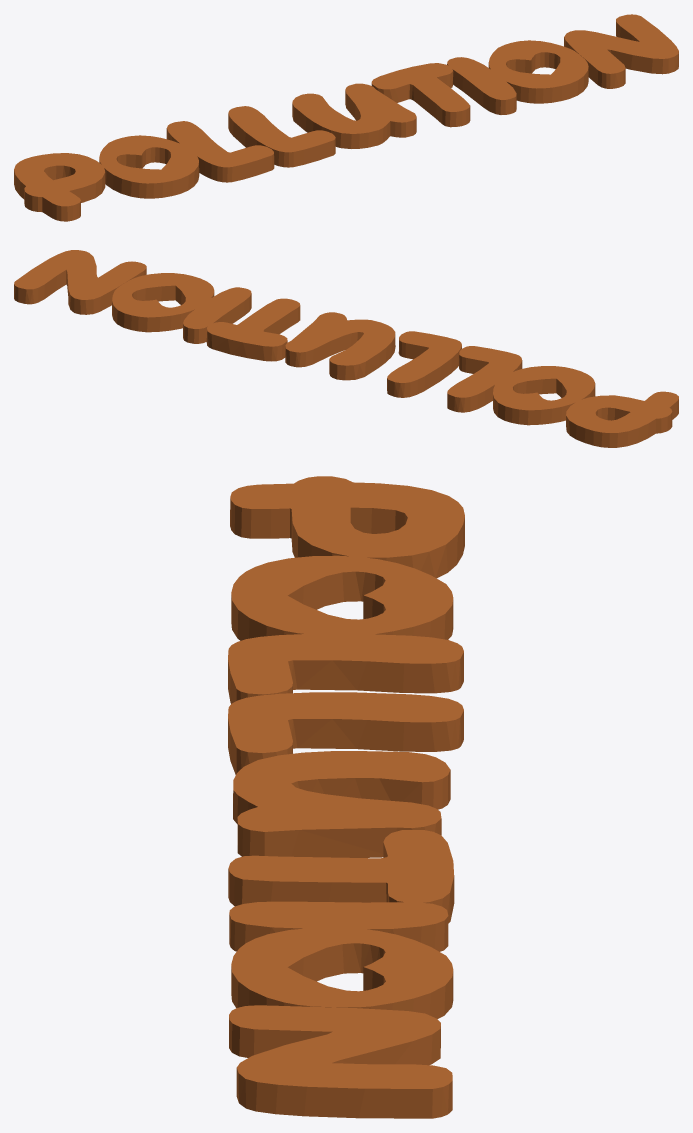
Rendered from Pollution.fbx.
3 renders of one model, top to bottom at view 1: azimuth 30°, elevation 25°; view 2: azimuth 150°, elevation 25°; view 3: azimuth 270°, elevation 25°, orthographic. The views are drawn at different scales.
Visible parts, largest first — view 1: Text; view 2: Text; view 3: Text.
Boxes of the visible parts, x1,y1,x2,y2 form: Text: (14,14,678,221); Text: (14,250,678,447); Text: (228,476,464,1118).
Bounding box in the file's own units: 409 × 9.23 × 66.87.
